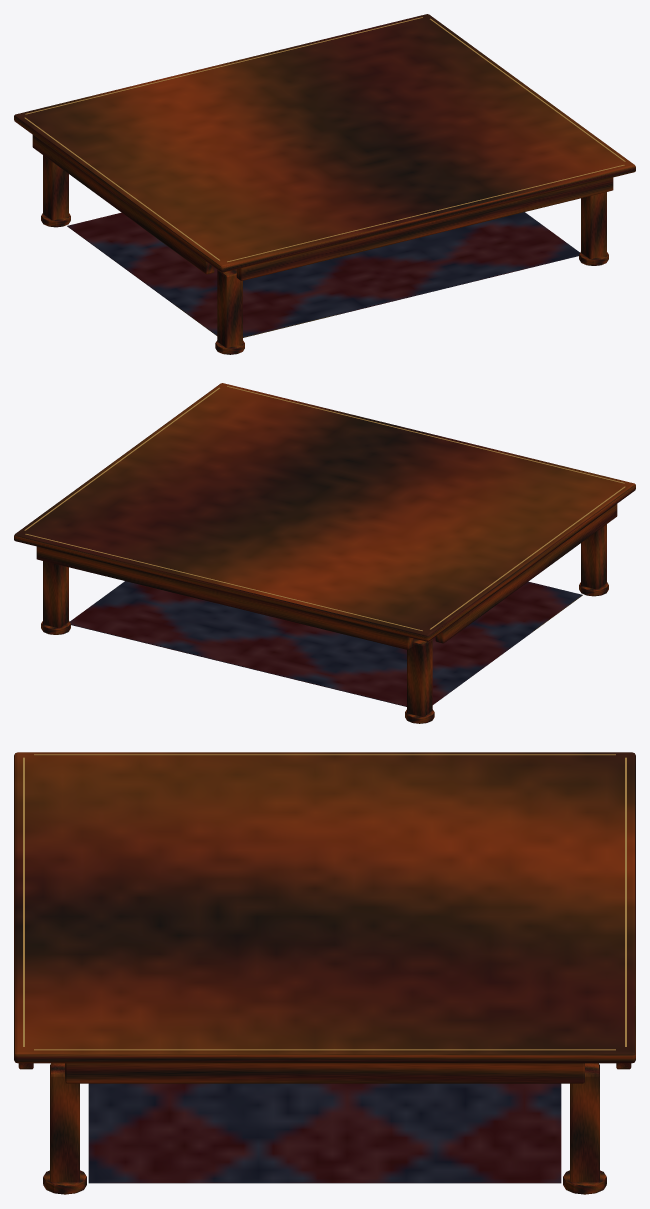
File: castle-great-hall.glb
3 views of the same model, one above another, from view 1: azimuth 30°, elevation 25°; view 2: azimuth 150°, elevation 25°; view 3: azimuth 270°, elevation 25° (orthographic). The views are drawn at different scales.
Visible parts, largest first — view 1: room.carved-oak, room.heraldic-rug, room.dark-oak, room.aged-gold; view 2: room.carved-oak, room.heraldic-rug, room.dark-oak, room.aged-gold; view 3: room.carved-oak, room.heraldic-rug, room.dark-oak, room.aged-gold.
Part boxes in pixels (x1,y1,x2,y2): room.carved-oak: (14,14,635,272); room.heraldic-rug: (67,212,579,337); room.dark-oak: (32,135,613,354); room.aged-gold: (24,17,625,262); room.carved-oak: (14,383,635,641); room.heraldic-rug: (70,581,582,706); room.dark-oak: (36,504,617,723); room.aged-gold: (24,386,625,631); room.carved-oak: (14,752,635,1063); room.heraldic-rug: (88,1083,561,1183); room.dark-oak: (18,1063,631,1194); room.aged-gold: (23,754,626,1050).
Size of what is drawn, in the model's own units: 49.95 by 11.64 by 43.4.
Materials: 4 (3 with a texture image).
